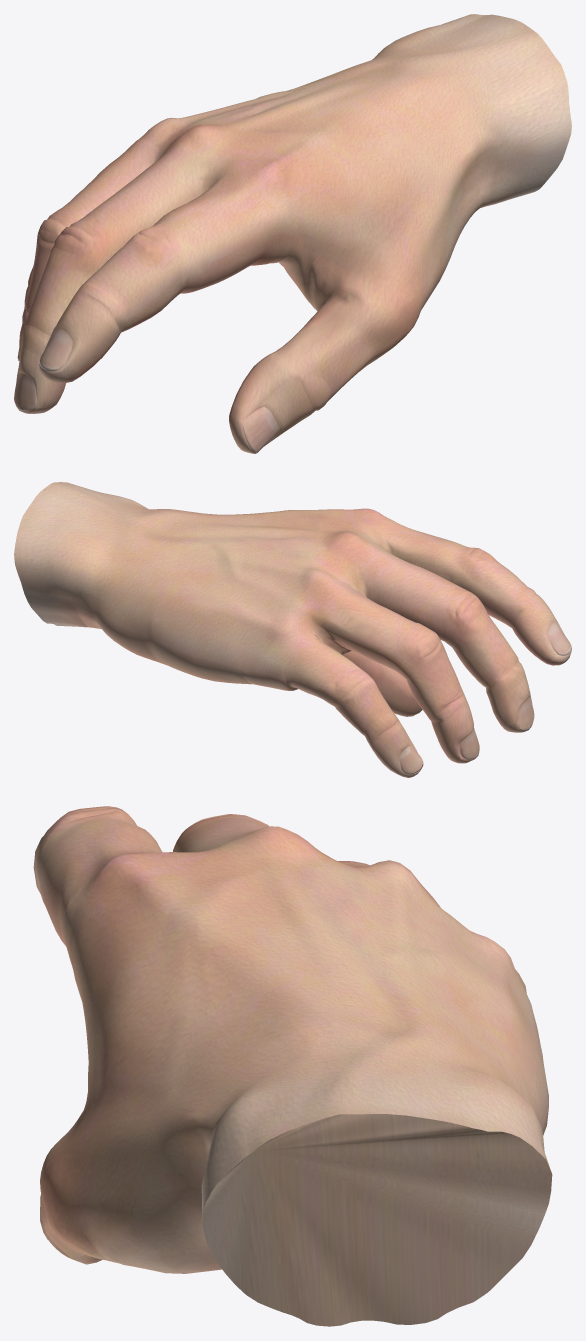
File: hand_00.obj
The picture shows the model from 3 angles, top to bottom: view 1: azimuth 30°, elevation 25°; view 2: azimuth 150°, elevation 25°; view 3: azimuth 270°, elevation 25°; orthographic projection. The views are drawn at different scales.
Visible parts, largest first — view 1: Figure_2; view 2: Figure_2; view 3: Figure_2.
Boxes of the visible parts, <box> form: Figure_2: <box>14,14,571,453</box>; Figure_2: <box>14,482,571,777</box>; Figure_2: <box>33,806,552,1326</box>.
Size of the model in its own units: 0.8151 by 0.3683 by 0.4019.
2 materials, 2 textured.
